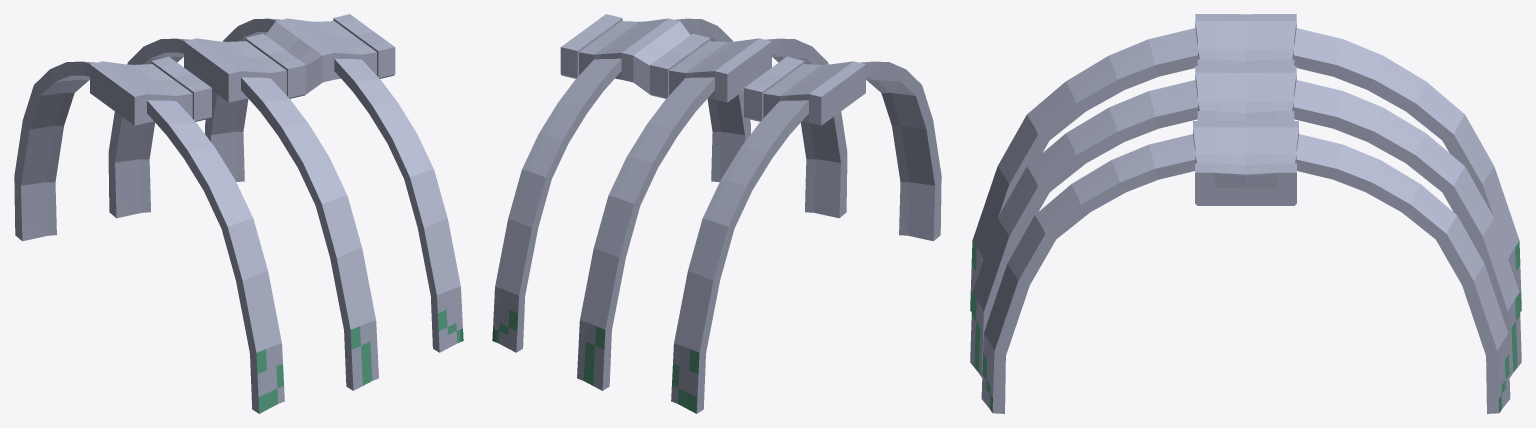
The model's file is iga.fbx.
3 renders of one model, left to right at view 1: azimuth 30°, elevation 25°; view 2: azimuth 150°, elevation 25°; view 3: azimuth 270°, elevation 25°, orthographic. The views are drawn at different scales.
Parts seen in each view (by area): view 1: iga; view 2: iga; view 3: iga.
Boxes of the visible parts, x1,y1,x2,y2 form: iga: [14, 14, 463, 413]; iga: [492, 14, 941, 413]; iga: [970, 14, 1521, 413].
Bounding box in the file's own units: 430 × 394 × 695.
